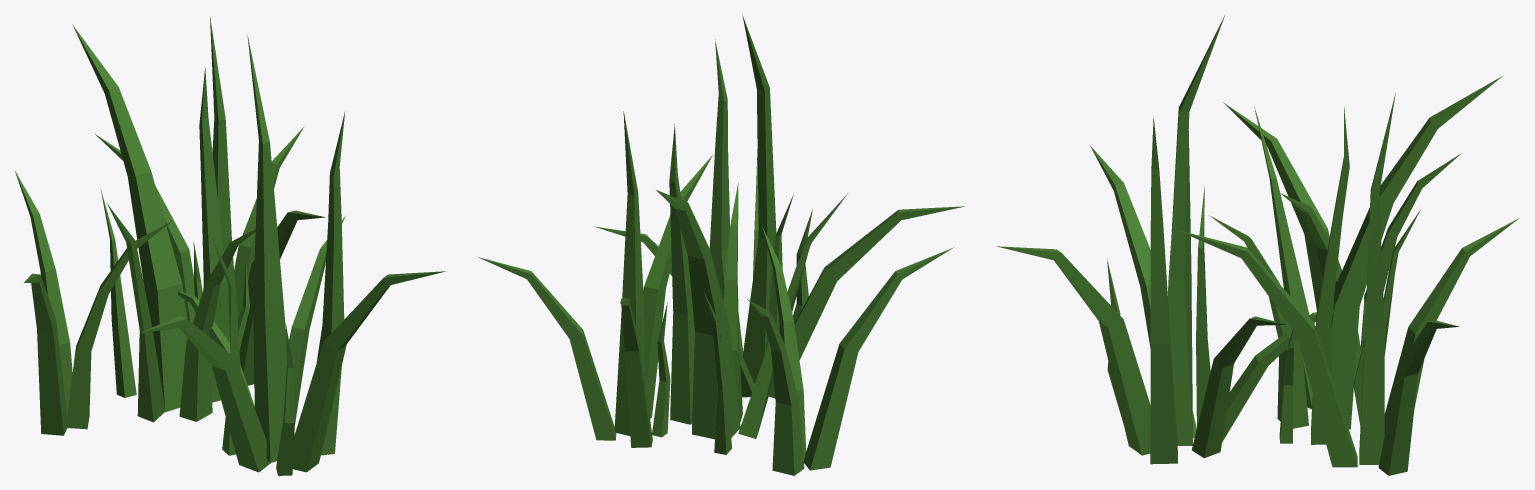
The model's file is tall-grass.glb.
The picture shows the model from 3 angles, left to right: view 1: azimuth 30°, elevation 25°; view 2: azimuth 150°, elevation 25°; view 3: azimuth 270°, elevation 25°; orthographic projection. The views are drawn at different scales.
Parts seen in each view (by area): view 1: Grass3.001, Grass2.001, Grass4.001, Grass5.001; view 2: Grass2.001, Grass3.001, Grass5.001, Grass4.001; view 3: Grass3.001, Grass5.001, Grass2.001, Grass4.001.
Boxes of the visible parts, left/top/right/bottom form: Grass3.001: left=140, top=34, right=445, bottom=475; Grass2.001: left=72, top=24, right=255, bottom=422; Grass4.001: left=15, top=171, right=173, bottom=435; Grass5.001: left=95, top=16, right=325, bottom=385; Grass2.001: left=652, top=124, right=847, bottom=454; Grass3.001: left=593, top=15, right=964, bottom=398; Grass5.001: left=478, top=111, right=712, bottom=447; Grass4.001: left=747, top=226, right=953, bottom=475; Grass3.001: left=996, top=14, right=1360, bottom=464; Grass5.001: left=1177, top=92, right=1519, bottom=475; Grass2.001: left=1209, top=76, right=1502, bottom=444; Grass4.001: left=1223, top=102, right=1461, bottom=379.
Bounding box in the file's own units: 1.86 × 1.87 × 2.06.
